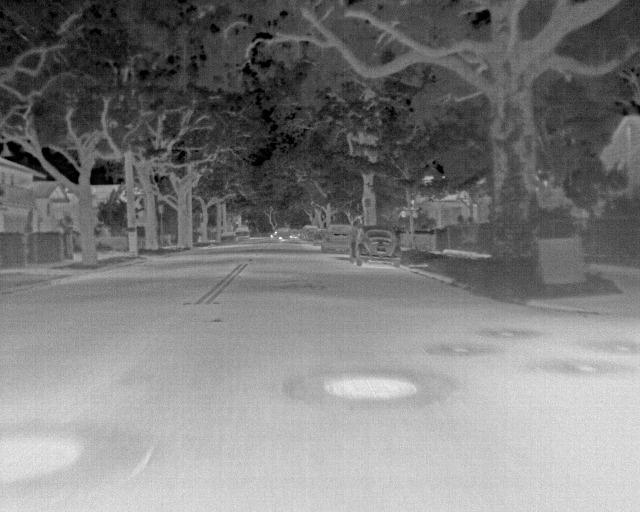car: (348, 225, 401, 267), (320, 222, 350, 254), (270, 225, 294, 242), (299, 224, 315, 241), (220, 229, 237, 245), (312, 228, 325, 246), (235, 226, 250, 241), (289, 232, 298, 241)
